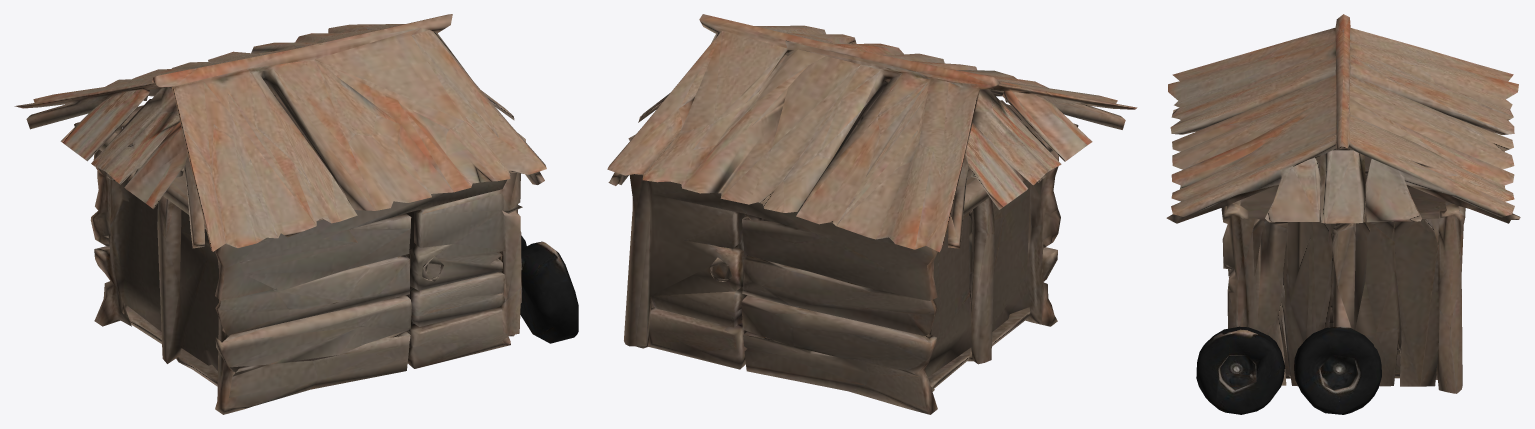
File: shack.glb
3 views of the same model, side by side, from view 1: azimuth 30°, elevation 25°; view 2: azimuth 150°, elevation 25°; view 3: azimuth 270°, elevation 25° (orthographic). The views are drawn at different scales.
Size of the model in its own units: 1.86 by 1.31 by 1.63.
1 material, 1 textured.
